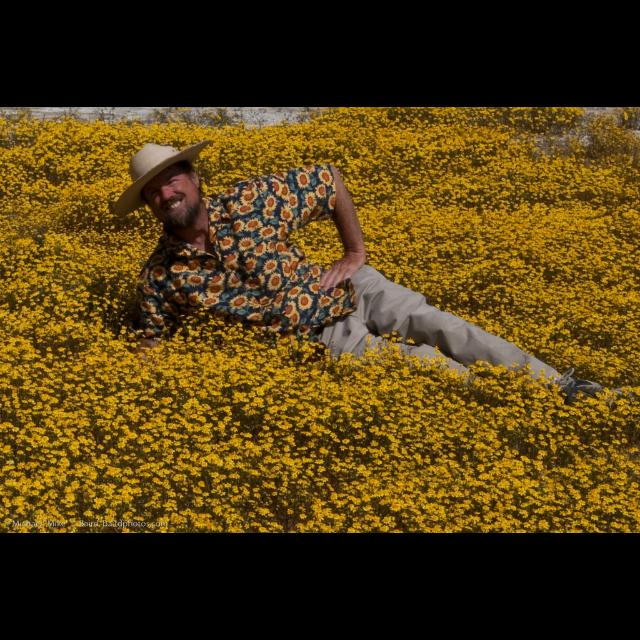Flower: (1, 108, 640, 532), (264, 270, 282, 296)
